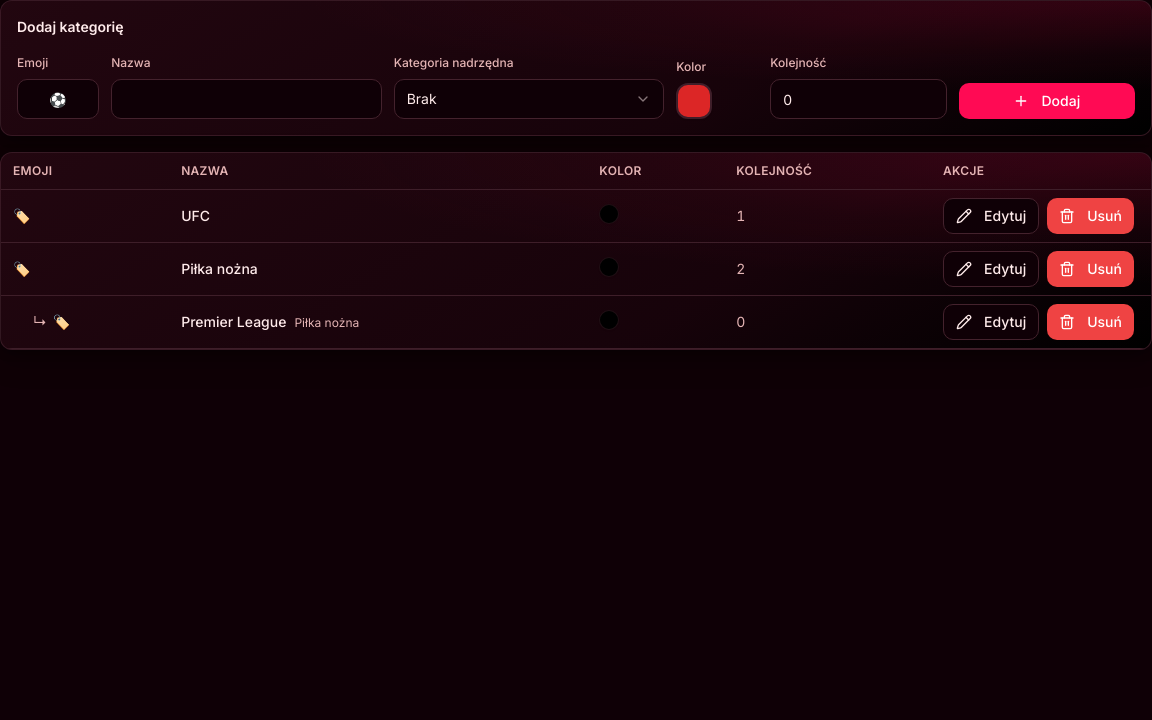
Test: CategoriesTab › does not let a sport with leagues get a parent of its own
Click the button with aria-label "Edytuj Piłka nożna".
click(991, 269)  # box [943,251,1039,287]
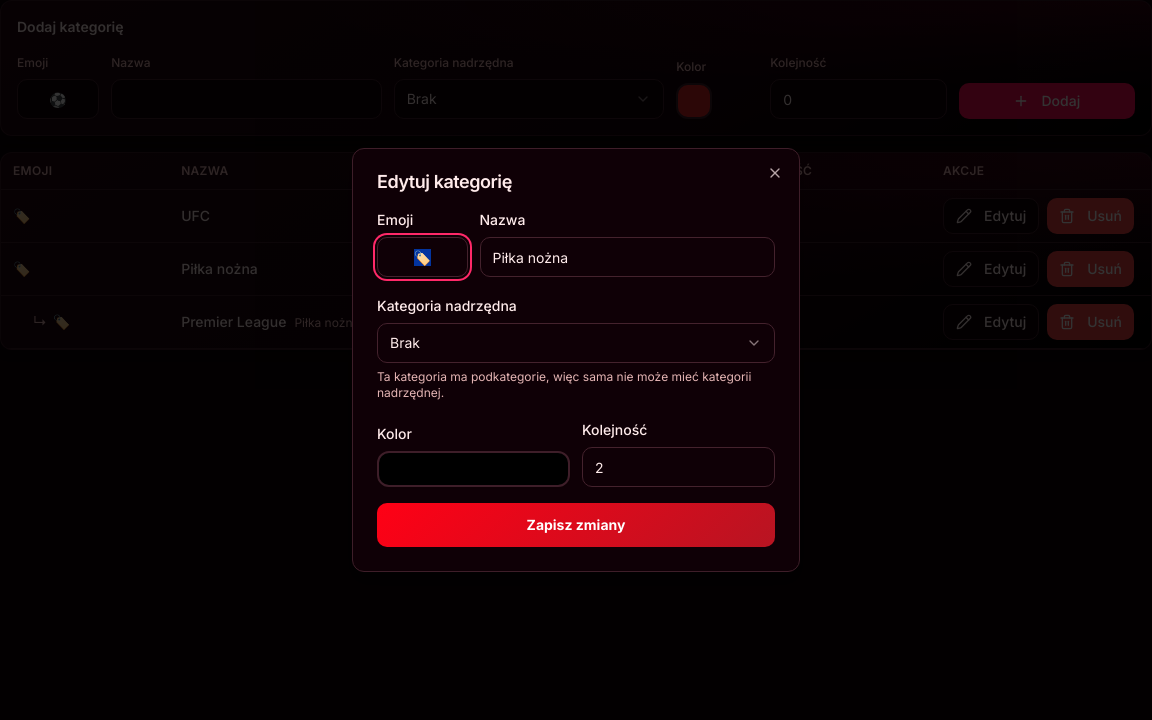
expect the dropdown named "Kategoria nadrzędna" is disabled: met, box [377,323,775,363]
